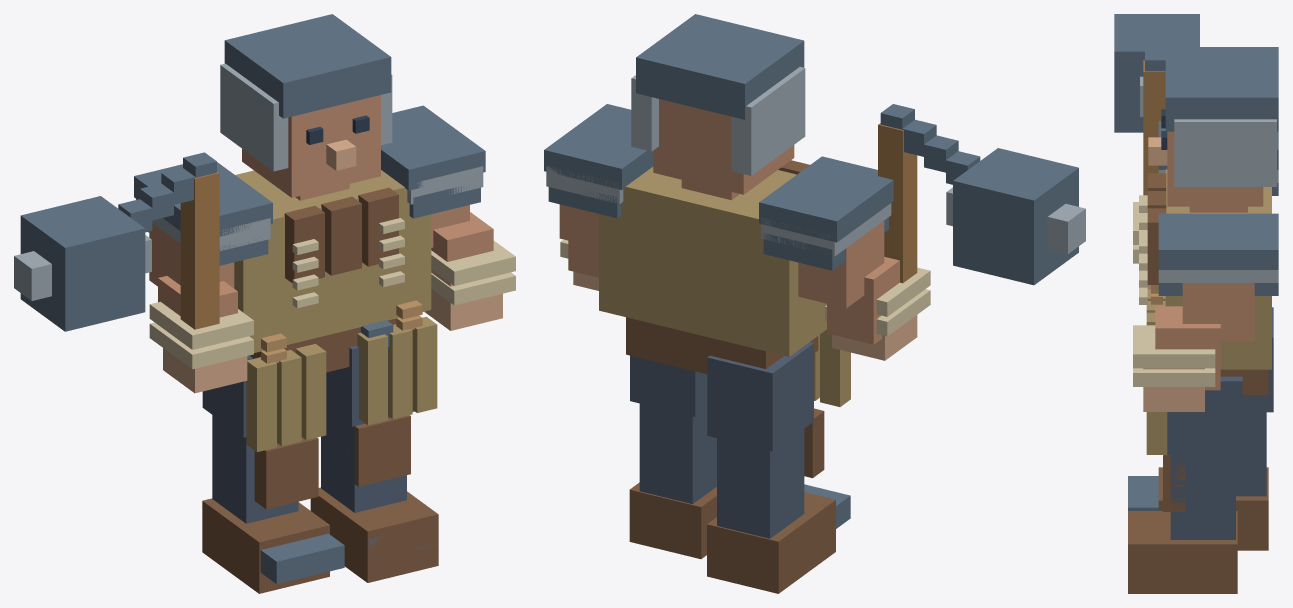
The model's file is arena-q-flail.glb.
3 views of the same model, side by side, from view 1: azimuth 30°, elevation 25°; view 2: azimuth 150°, elevation 25°; view 3: azimuth 270°, elevation 25° (orthographic). The views are drawn at different scales.
Visible parts, largest first — view 1: Weapon, Helmet, Boots, Cloth, Skirt, Shoulders, Legs, Wraps, Head, Greaves, Vest, Arms (+4 smaller); view 2: Cloth, Legs, Weapon, Shoulders, Helmet, Boots, Arms, Head, Belt, Wraps, Skirt, Hands (+1 smaller); view 3: Helmet, Legs, Boots, Shoulders, Weapon, Arms, Wraps, Cloth, Head, Hands, Vest, Skirt (+4 smaller).
Boxes of the visible parts, left/top/right/bottom form: Weapon: left=14, top=152, right=219, bottom=331; Helmet: left=220, top=14, right=392, bottom=171; Boots: left=202, top=487, right=438, bottom=593; Cloth: left=234, top=170, right=431, bottom=352; Skirt: left=246, top=316, right=437, bottom=452; Shoulders: left=134, top=105, right=485, bottom=265; Legs: left=202, top=345, right=414, bottom=523; Wraps: left=149, top=240, right=515, bottom=369; Head: left=242, top=95, right=380, bottom=200; Greaves: left=254, top=415, right=410, bottom=509; Vest: left=284, top=187, right=398, bottom=283; Arms: left=149, top=205, right=493, bottom=317; Cloth: left=599, top=167, right=826, bottom=356; Legs: left=630, top=342, right=813, bottom=538; Weapon: left=878, top=104, right=1085, bottom=285; Shoulders: left=544, top=104, right=893, bottom=270; Helmet: left=631, top=14, right=805, bottom=175; Boots: left=629, top=482, right=850, bottom=593; Arms: left=559, top=204, right=899, bottom=344; Head: left=653, top=99, right=794, bottom=200; Belt: left=626, top=317, right=818, bottom=374; Wraps: left=560, top=239, right=930, bottom=336; Skirt: left=814, top=329, right=850, bottom=406; Hands: left=573, top=271, right=917, bottom=360; Helmet: left=1165, top=47, right=1278, bottom=186; Legs: left=1164, top=307, right=1273, bottom=539; Boots: left=1128, top=467, right=1268, bottom=593; Shoulders: left=1158, top=121, right=1278, bottom=295; Weapon: left=1114, top=14, right=1199, bottom=195; Arms: left=1155, top=283, right=1254, bottom=390; Wraps: left=1133, top=202, right=1215, bottom=386; Cloth: left=1165, top=169, right=1271, bottom=369; Head: left=1167, top=131, right=1263, bottom=212; Hands: left=1143, top=285, right=1204, bottom=411; Vest: left=1147, top=173, right=1166, bottom=284; Skirt: left=1146, top=289, right=1167, bottom=454.
Bounding box in the file's own units: 1.81 × 1.8 × 0.5556.
